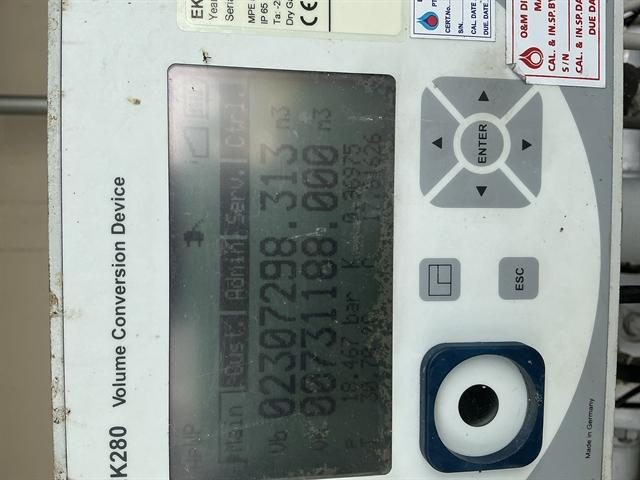digital_screen: (170, 65, 393, 478)
